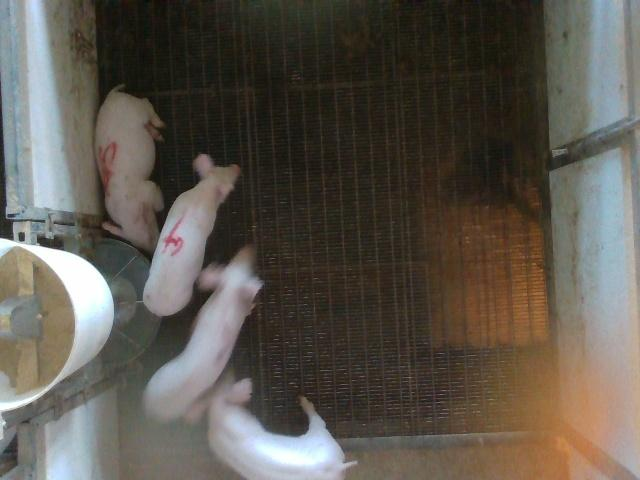pig-2: (146, 246, 262, 422)
pig-4: (144, 154, 241, 316)
pig-5: (95, 85, 165, 252)
